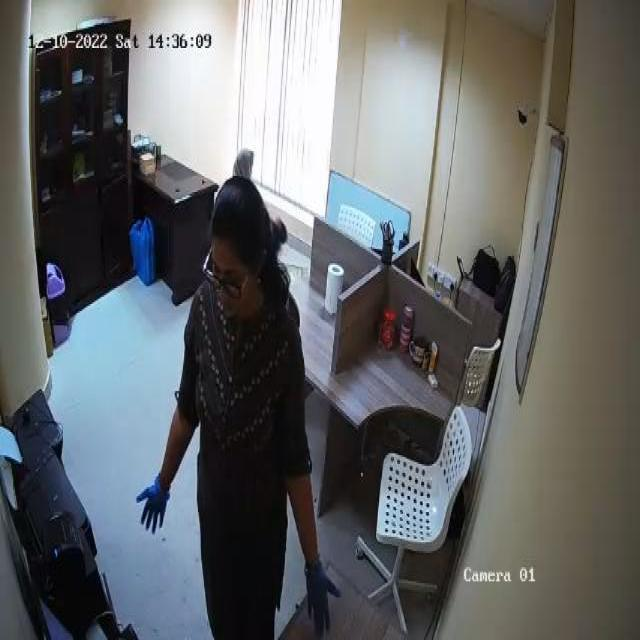gloved_hand: (300, 556, 342, 635), (133, 475, 174, 548)
